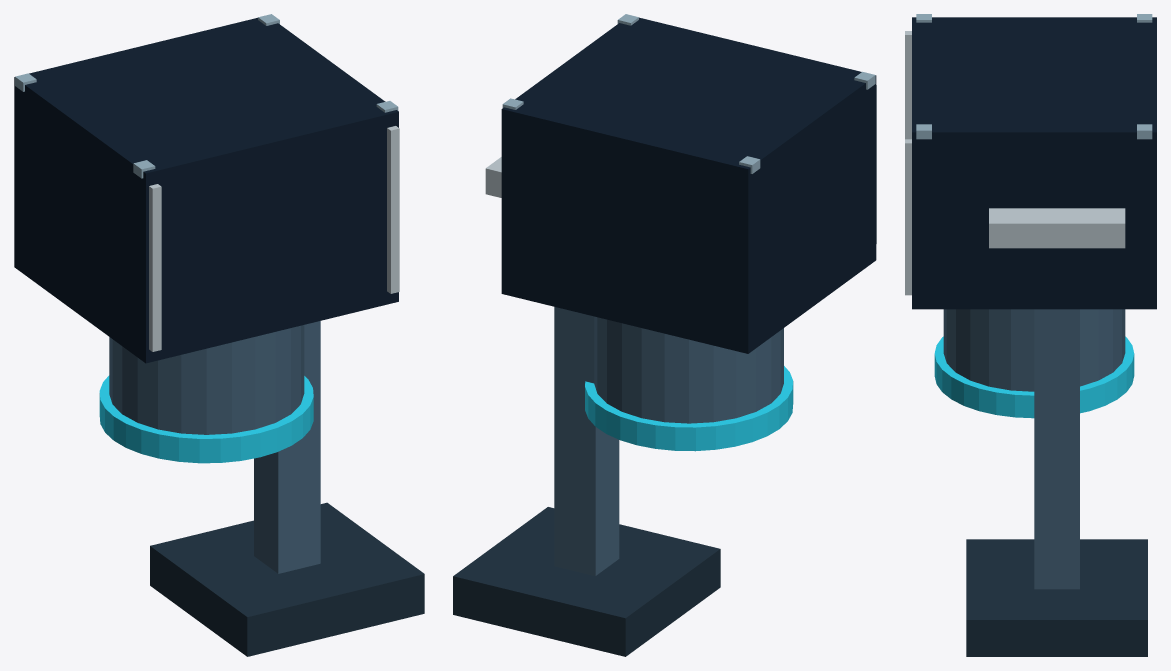
File: 29_L74_WaferAlignmentMarkCamera.fbx
3 views of the same model, side by side, from view 1: azimuth 30°, elevation 25°; view 2: azimuth 150°, elevation 25°; view 3: azimuth 270°, elevation 25° (orthographic). The views are drawn at different scales.
Parts seen in each view (by area): view 1: WaferAlignmentMarkCamera_Part_0003, WaferAlignmentMarkCamera, WaferAlignmentMarkCamera_Part_0010, WaferAlignmentMarkCamera_Part_0011, WaferAlignmentMarkCamera_Part_0008, WaferAlignmentMarkCamera_Part_0009; view 2: WaferAlignmentMarkCamera_Part_0003, WaferAlignmentMarkCamera, WaferAlignmentMarkCamera_Part_0010, WaferAlignmentMarkCamera_Part_0011; view 3: WaferAlignmentMarkCamera_Part_0003, WaferAlignmentMarkCamera, WaferAlignmentMarkCamera_Part_0010, WaferAlignmentMarkCamera_Part_0011, WaferAlignmentMarkCamera_Part_0009, WaferAlignmentMarkCamera_Part_0008.
Boxes of the visible parts, x1,y1,x2,y2 form: WaferAlignmentMarkCamera_Part_0003: (14, 17, 398, 363); WaferAlignmentMarkCamera: (150, 321, 424, 656); WaferAlignmentMarkCamera_Part_0010: (109, 325, 304, 434); WaferAlignmentMarkCamera_Part_0011: (99, 375, 313, 463); WaferAlignmentMarkCamera_Part_0008: (149, 184, 161, 351); WaferAlignmentMarkCamera_Part_0009: (387, 126, 399, 293); WaferAlignmentMarkCamera_Part_0003: (501, 17, 876, 353); WaferAlignmentMarkCamera: (453, 157, 720, 656); WaferAlignmentMarkCamera_Part_0010: (594, 316, 783, 423); WaferAlignmentMarkCamera_Part_0011: (585, 366, 793, 451); WaferAlignmentMarkCamera_Part_0003: (912, 17, 1156, 309); WaferAlignmentMarkCamera: (966, 208, 1147, 656); WaferAlignmentMarkCamera_Part_0010: (943, 309, 1125, 391); WaferAlignmentMarkCamera_Part_0011: (934, 336, 1134, 418); WaferAlignmentMarkCamera_Part_0009: (905, 139, 911, 295); WaferAlignmentMarkCamera_Part_0008: (905, 31, 911, 139).
Bounding box in the file's own units: 73.4 × 122 × 55.52.
